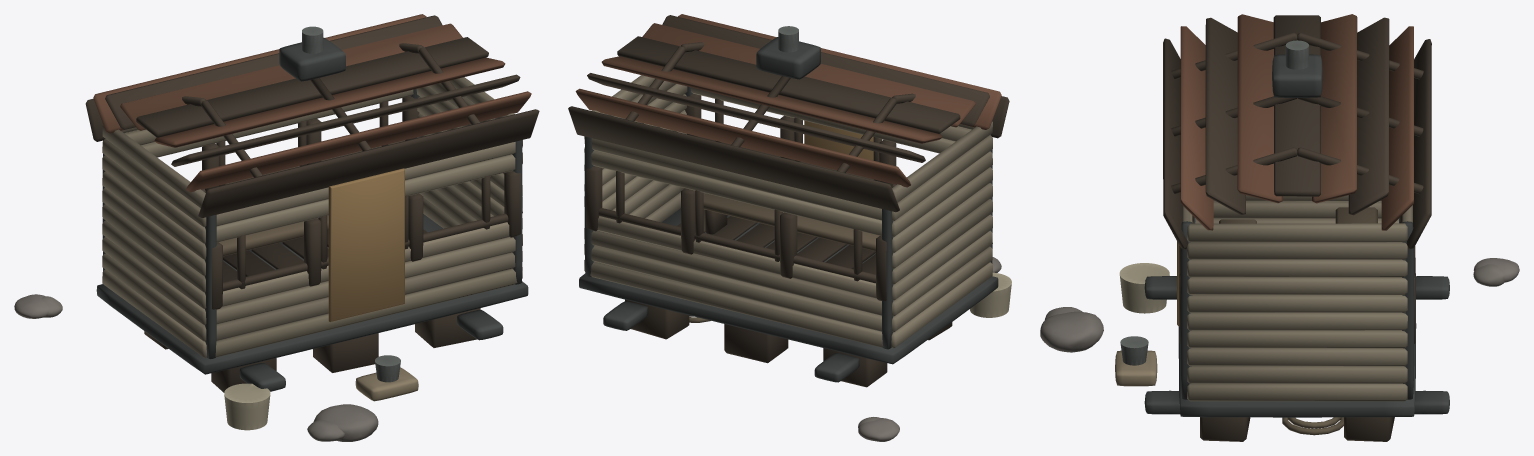
Rendered from tram_car_parked_a.glb.
The picture shows the model from 3 angles, left to right: view 1: azimuth 30°, elevation 25°; view 2: azimuth 150°, elevation 25°; view 3: azimuth 270°, elevation 25°; orthographic projection. The views are drawn at different scales.
Parts seen in each view (by area): view 1: Surface; view 2: Surface; view 3: Surface.
Boxes of the visible parts, left/top/right/bottom form: Surface: left=14, top=14, right=539, bottom=441; Surface: left=568, top=14, right=1011, bottom=441; Surface: left=1040, top=14, right=1519, bottom=441.
Size of the model in its own units: 5.45 by 4.4 by 5.65.
